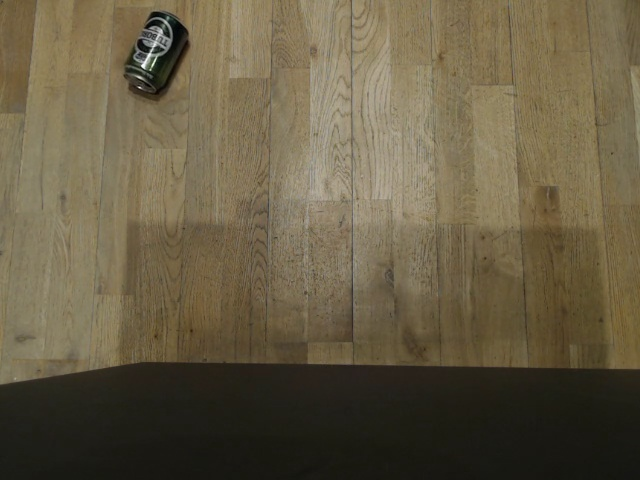beer: (121, 6, 191, 97)
